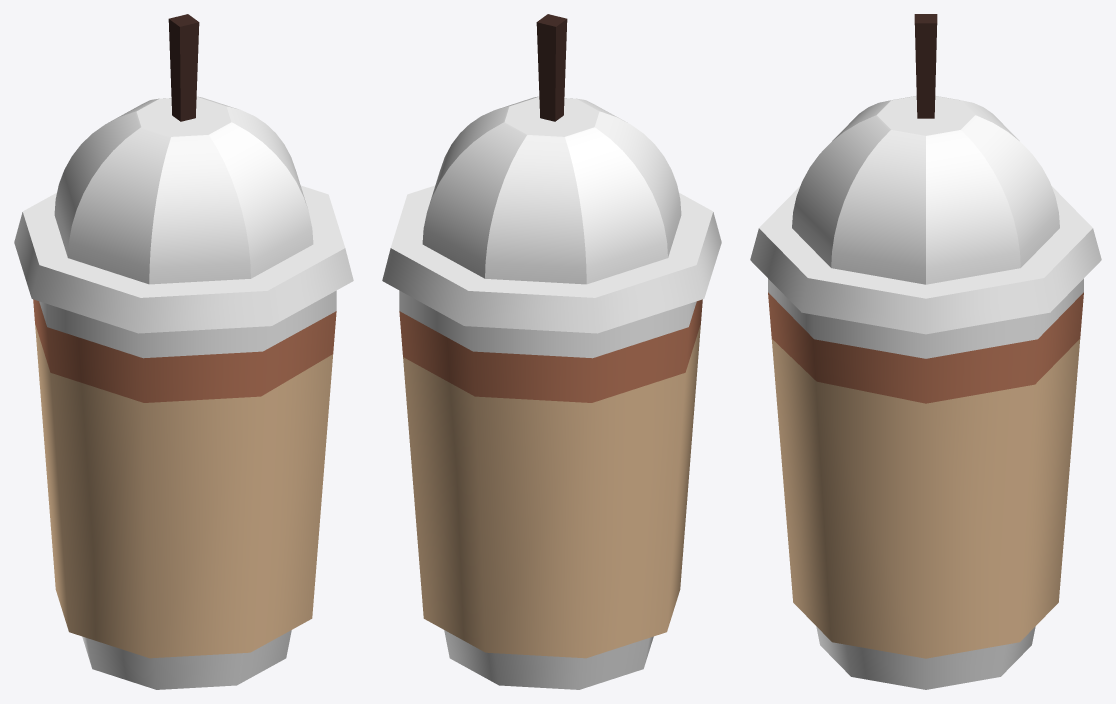
The model's file is frappe.obj.
3 renders of one model, left to right at view 1: azimuth 30°, elevation 25°; view 2: azimuth 150°, elevation 25°; view 3: azimuth 270°, elevation 25°, orthographic.
Parts seen in each view (by area): view 1: frappe, straw; view 2: frappe, straw; view 3: frappe, straw.
Boxes of the visible parts, box(x1,y1,x2,y2) form: frappe: box(14, 96, 353, 689); straw: box(168, 14, 199, 121); frappe: box(382, 96, 721, 689); straw: box(536, 14, 567, 121); frappe: box(750, 96, 1101, 689); straw: box(914, 14, 937, 118).
Bounding box in the file's own units: 0.2541 × 0.4993 × 0.2541.
